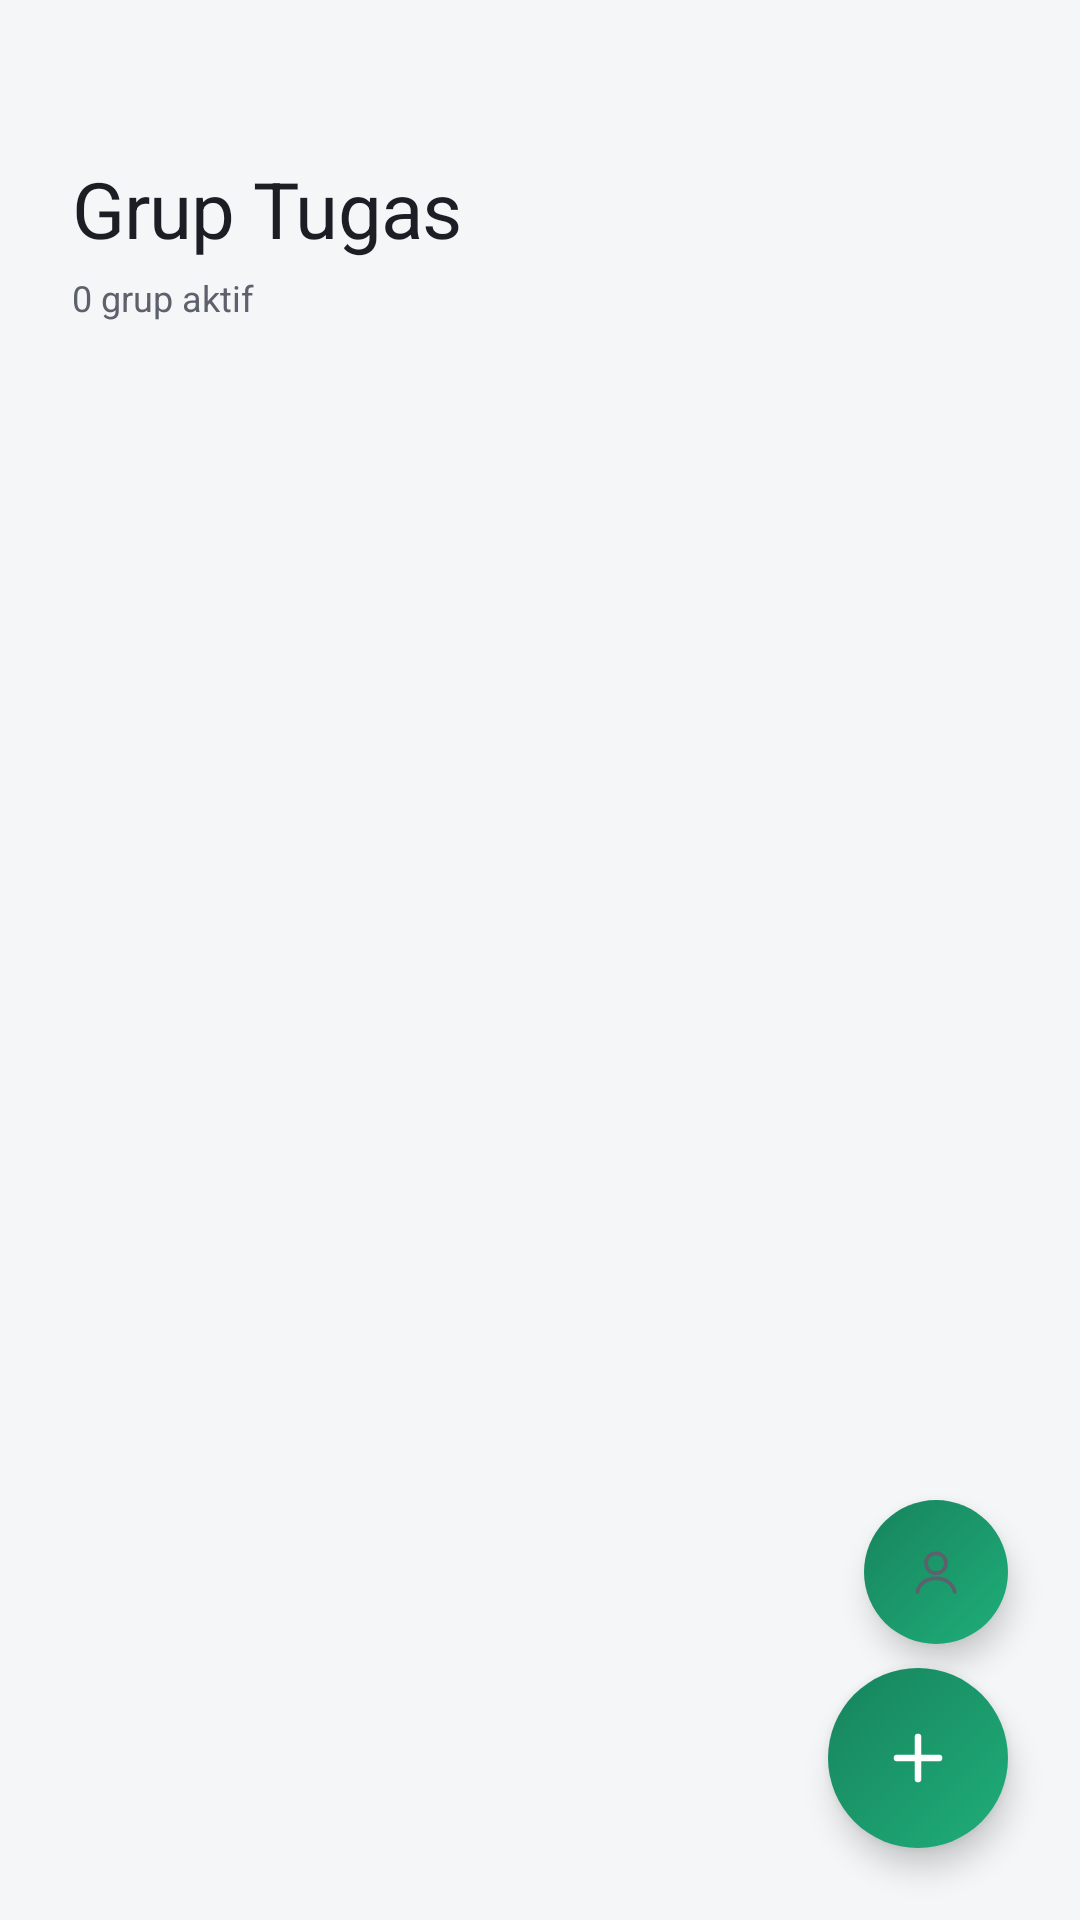

Icon click points for this 1080px×1920px phone screenshot, format [x,y]:
Tambah grup baru: [918,1758]
